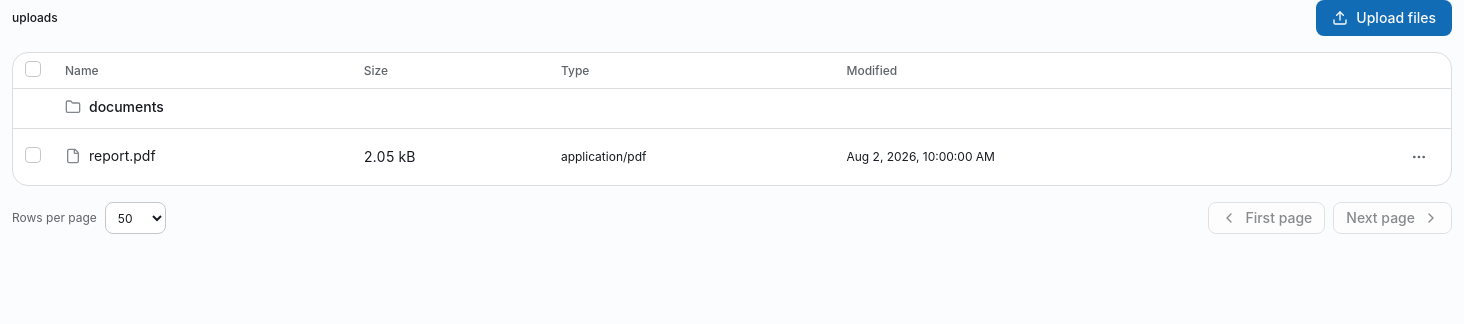
Test: ObjectBrowser › drops a selection when the listing location changes
Expected: the link "report.pdf" is shown, [65,145,156,167]
Click the checkbox named "select report.pdf": (33, 155) [25,147,41,163]
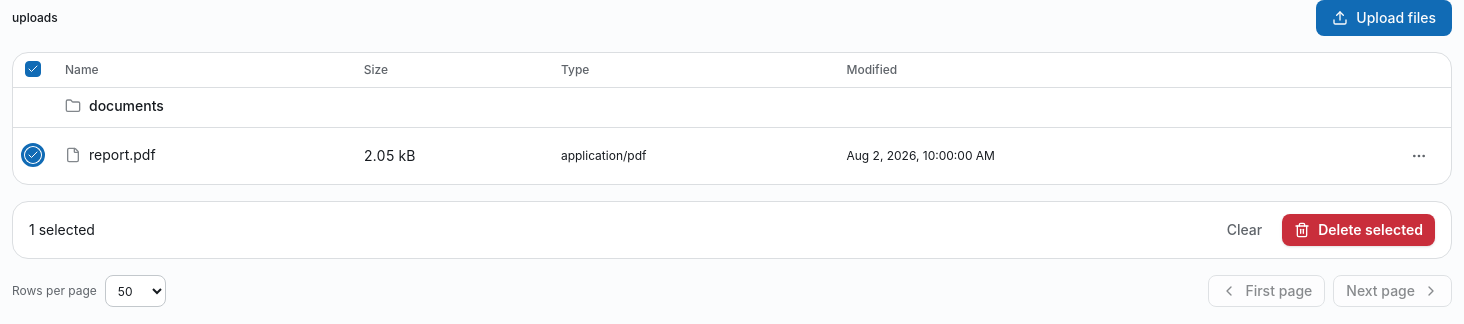
Expected: the text "1 selected" is shown, [29,219,95,241]
// A selection made on one page must not survive into another.
Click the button "documents": (114, 106) [65,96,164,116]
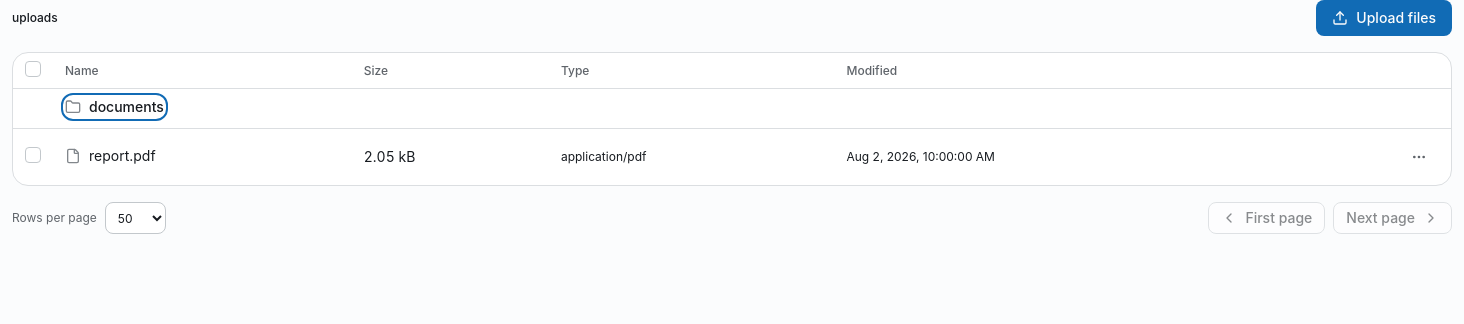
Expected: the text "1 selected" is gone
